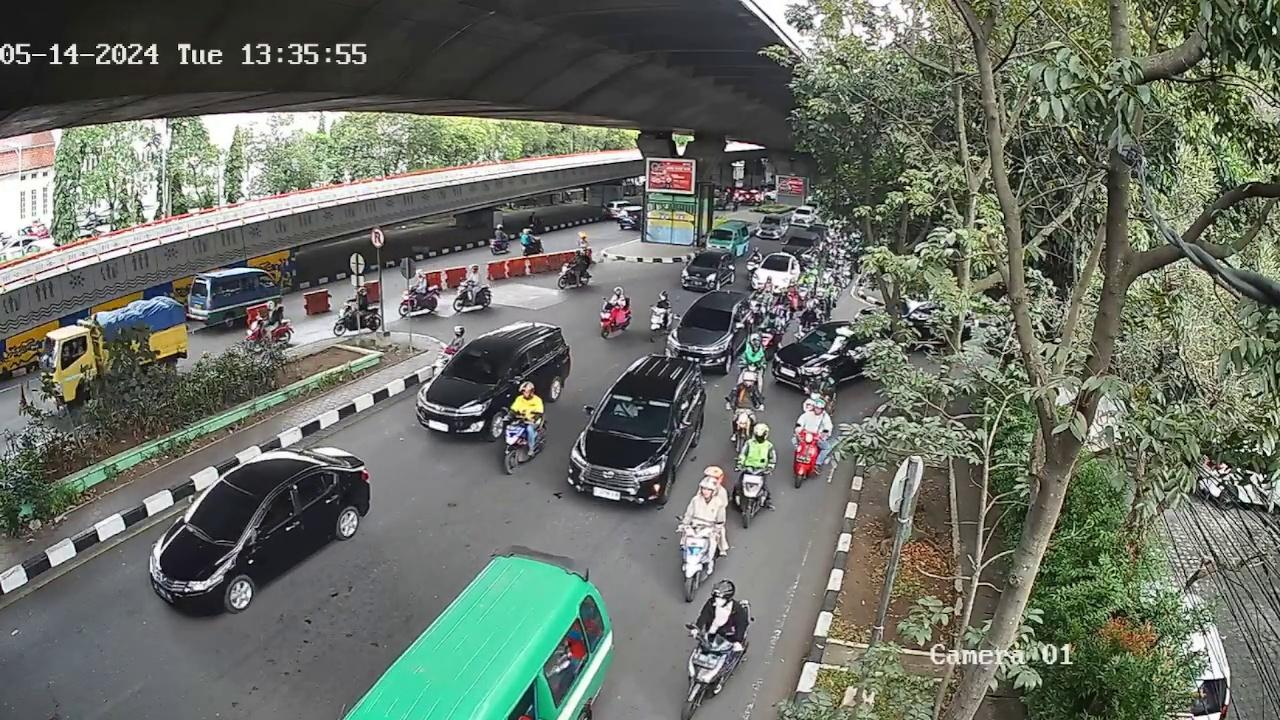pakai: (613, 399, 639, 421)
windshield: (186, 480, 264, 540), (590, 390, 673, 437), (444, 342, 512, 383), (680, 306, 732, 332)
